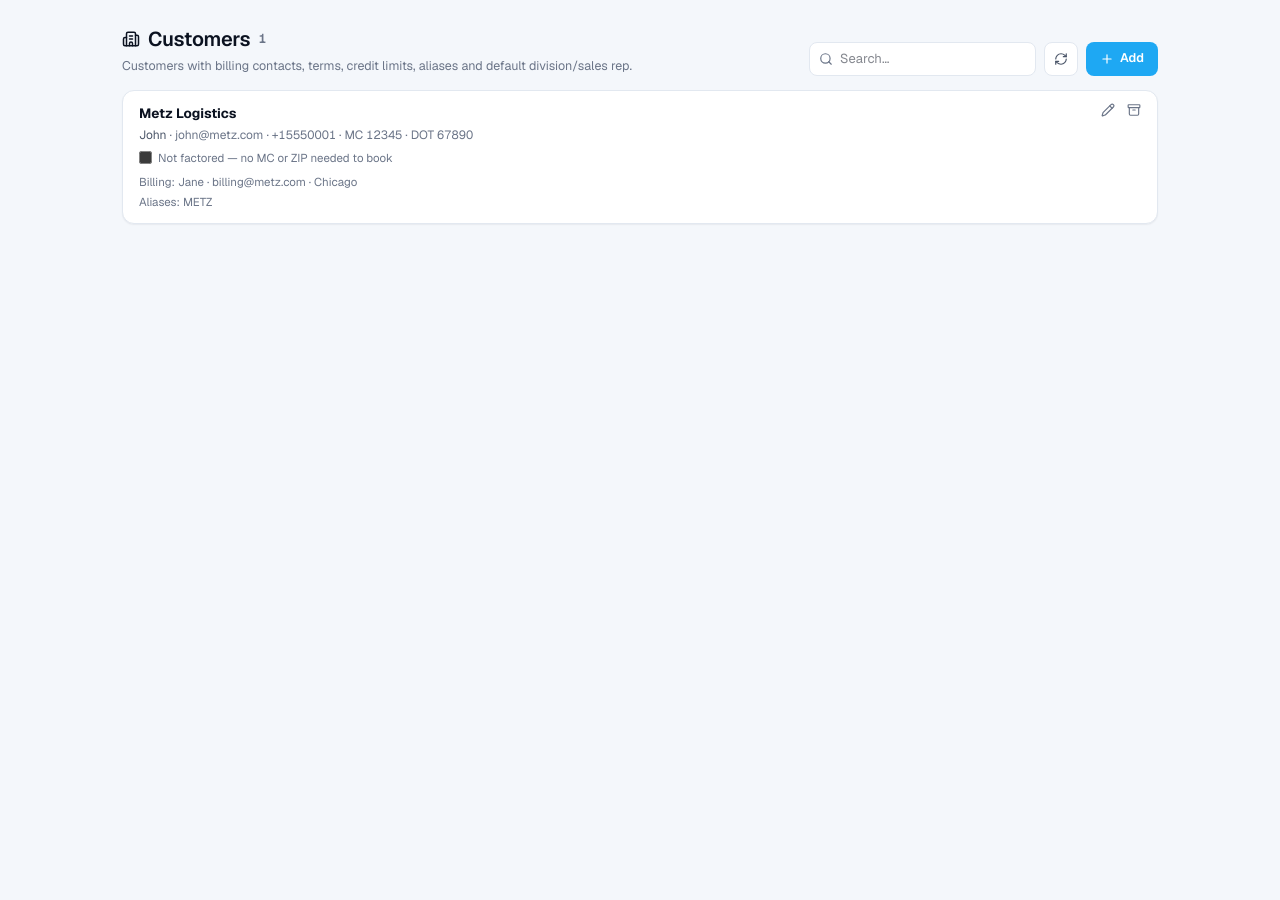
Test: DirectoryPages › Edit customer opens pre-filled with that record
The width and height of the screenshot is (1280, 900).
What coordinates should you click on to do the following:
click the button titled "Edit"
I would click on:
 (1108, 110)
Its box is [1101,103,1115,117].
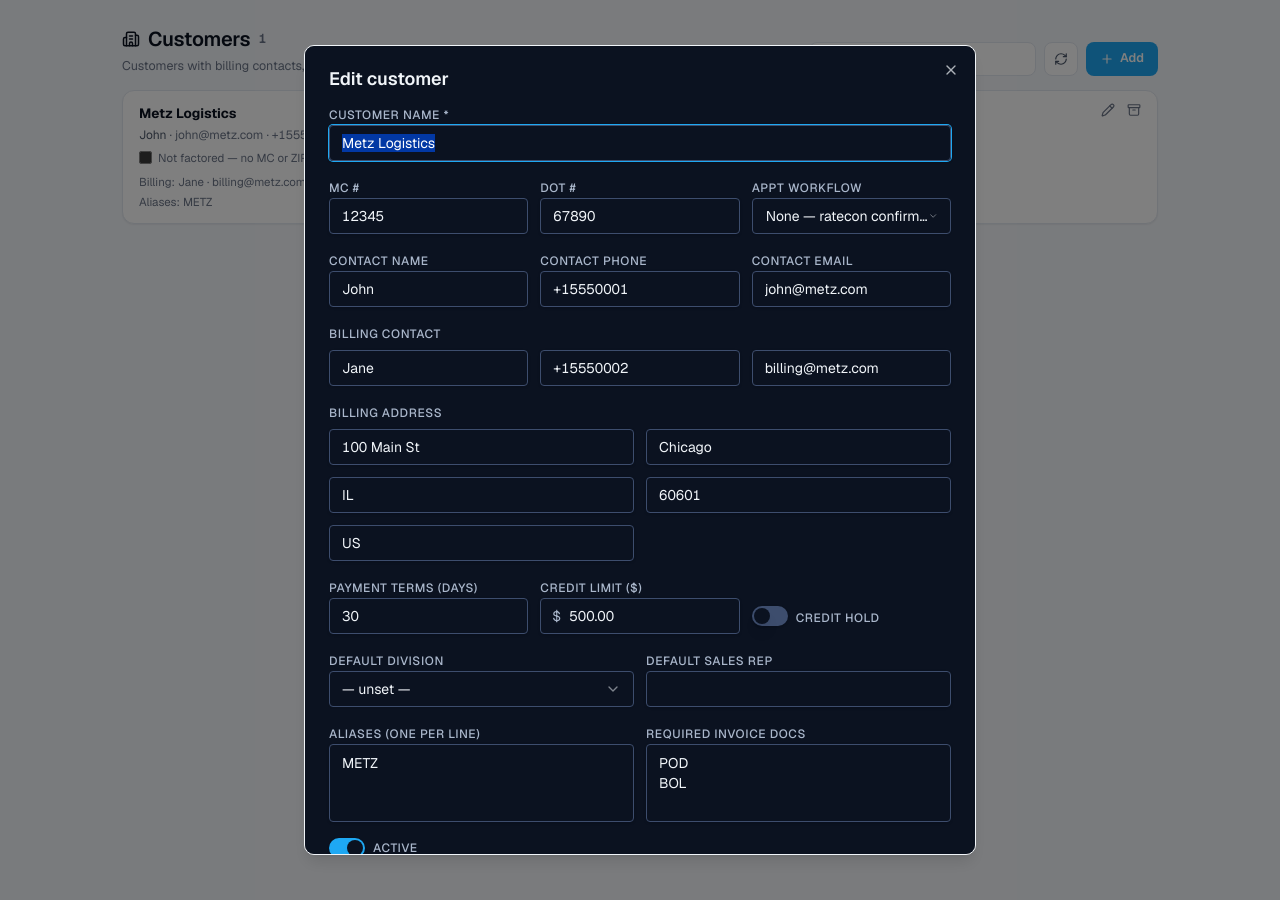
Check: the heading "Edit customer" is shown, box [329,67,449,90]
Check: the field showing "Metz Logistics" below "Customer name *" is shown, box [329,125,951,161]
